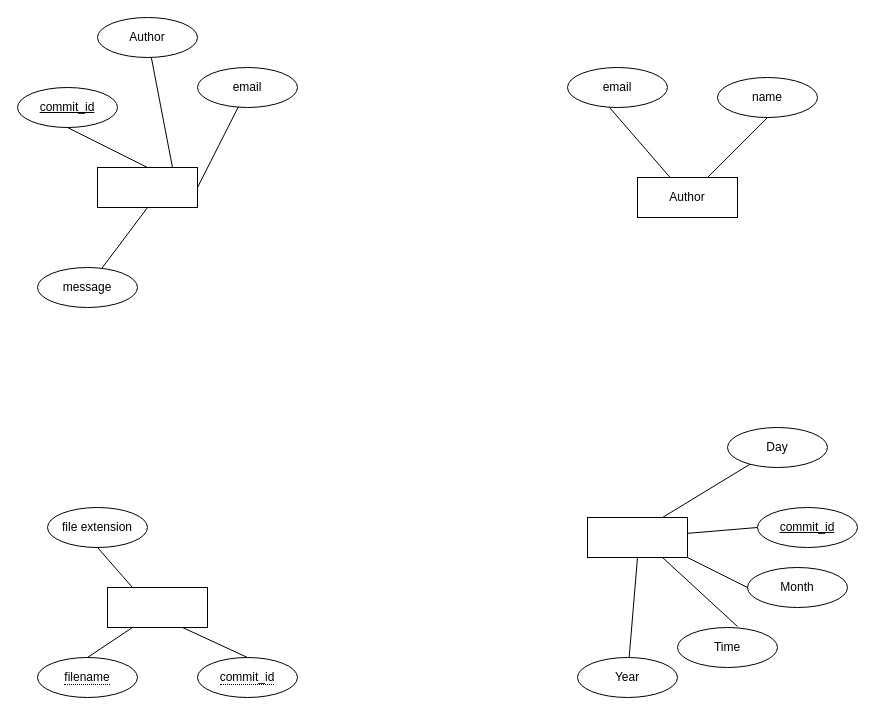
Some shapes in this 875 by 715 pixel diagram are drawn without their labels. The box of each missing label's shape, as (x1, y1, x2, y2) in pixels:
Commit: (96, 166, 198, 208)
Date: (586, 516, 688, 558)
File: (106, 586, 208, 628)
